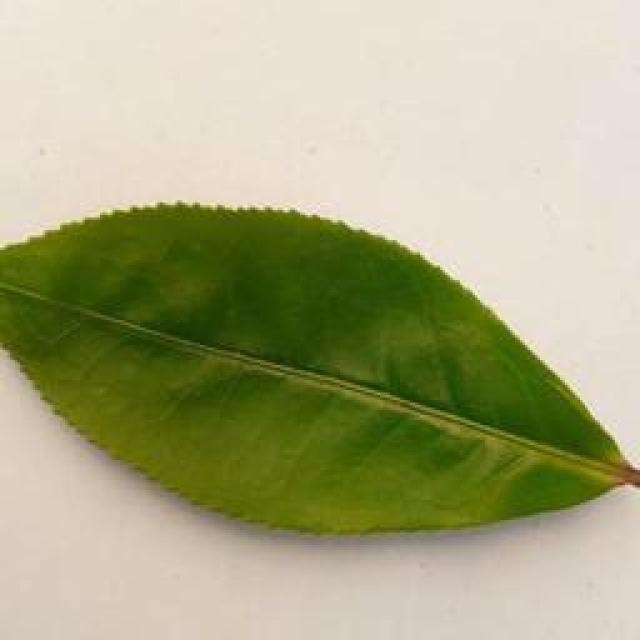Healthy: (6, 191, 640, 549)
